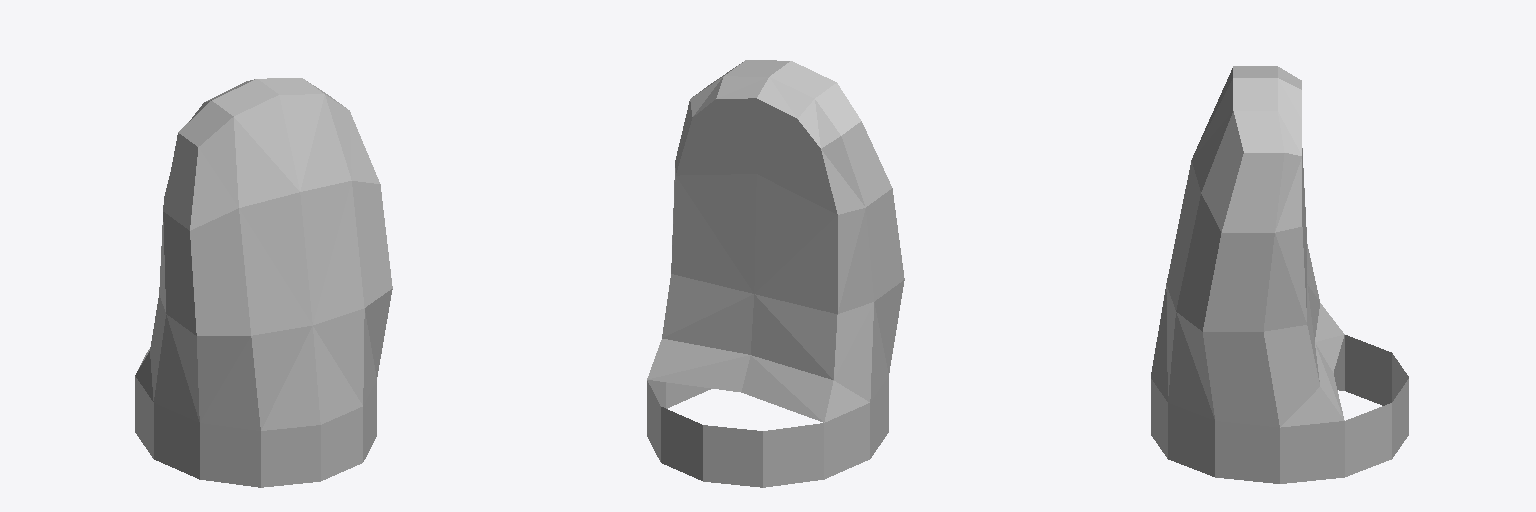
File: Hand_Left.obj
The picture shows the model from 3 angles: view 1: azimuth 30°, elevation 25°; view 2: azimuth 150°, elevation 25°; view 3: azimuth 270°, elevation 25°; orthographic projection.
Visible parts, largest first — view 1: Hand_Left; view 2: Hand_Left; view 3: Hand_Left.
Boxes of the visible parts, x1=… form: Hand_Left: x1=135, y1=78, x2=392, y2=487; Hand_Left: x1=647, y1=60, x2=904, y2=487; Hand_Left: x1=1151, y1=66, x2=1408, y2=483.
Size of the model in its own units: 0.0717 by 0.1193 by 0.0785.